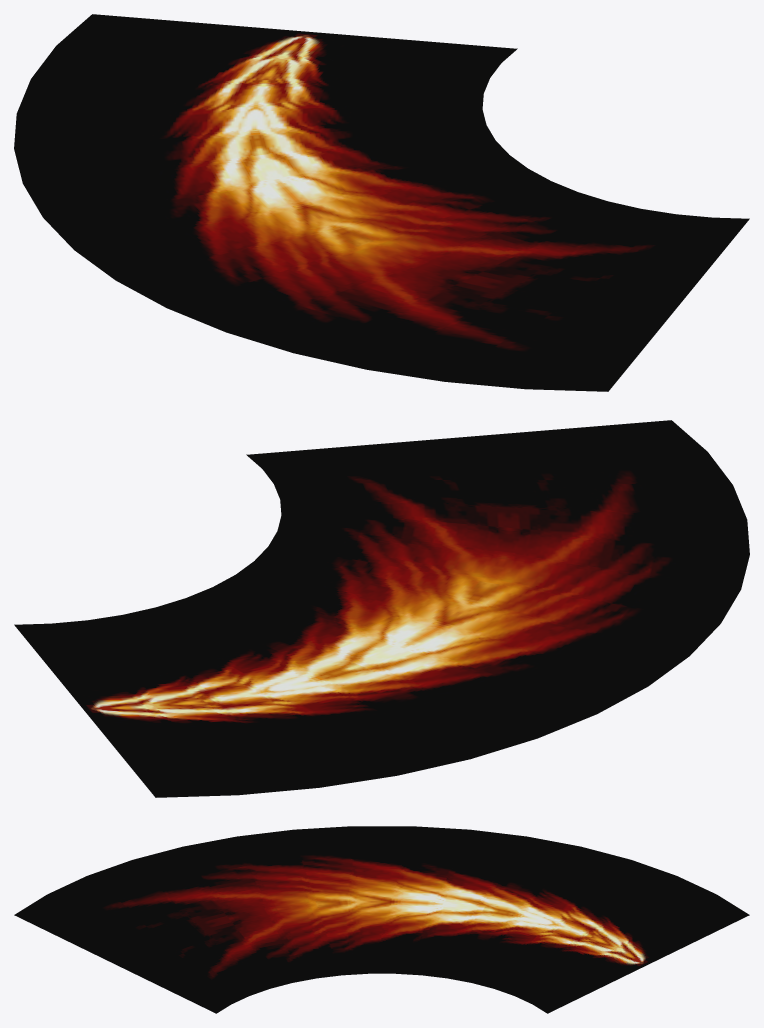
File: banhu01.FBX
3 views of the same model, one above another, from view 1: azimuth 30°, elevation 25°; view 2: azimuth 150°, elevation 25°; view 3: azimuth 270°, elevation 25° (orthographic). The views are drawn at different scales.
Parts seen in each view (by area): view 1: banhu01; view 2: banhu01; view 3: banhu01.
Part boxes in pixels (box(x1,y1,x2,y2)): banhu01: box(14, 14, 749, 391); banhu01: box(14, 420, 749, 797); banhu01: box(14, 826, 749, 1013).
Bounding box in the file's own units: 113 × 2.58e-06 × 188.
Materials: 1 (1 with a texture image).
